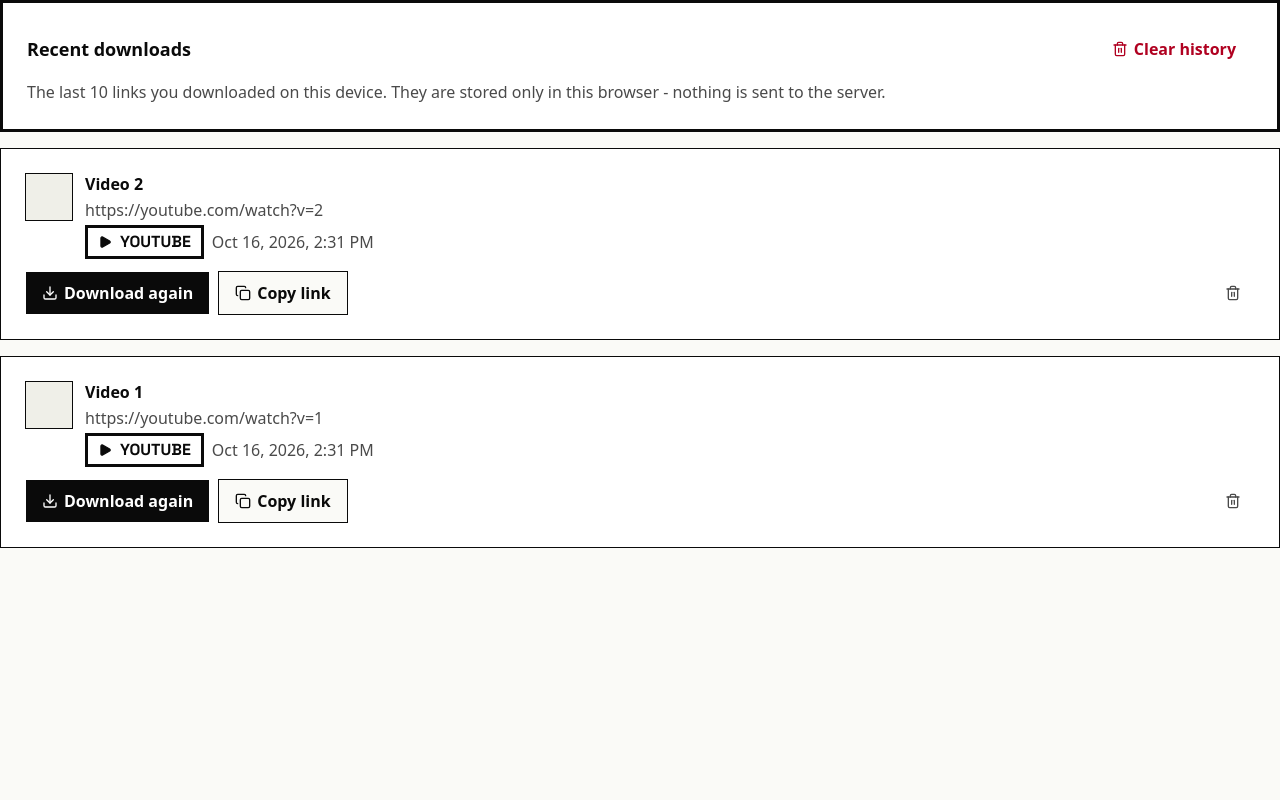
Test case: HistoryPage › removes a single entry
The image size is (1280, 800).
What coordinates should you click on to do the following:
click the button named "remove from history: video 2"
I would click on:
 (1233, 293)
Its box is [1211,271,1255,315].
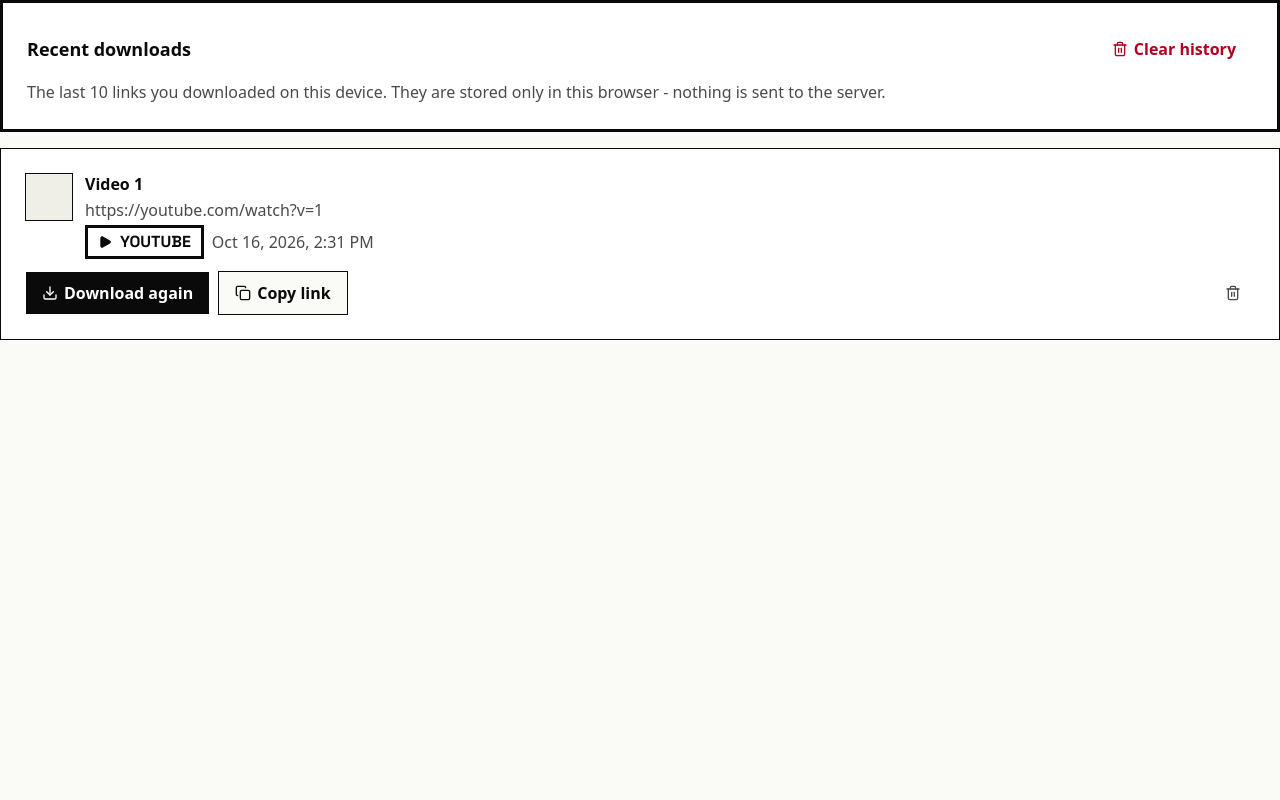
Expected: the heading "Video 1" is shown, [85,173,143,195]
Now the heading "Video 2" is gone
